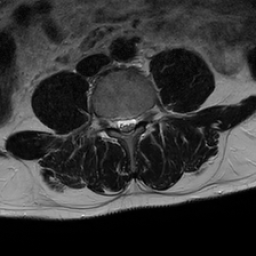CCS_stenosis: (122, 107, 130, 141)
LFS_normal: (137, 105, 146, 130)
LLS_normal: (130, 107, 137, 136)
RFS_normal: (106, 108, 114, 134)
RLS_normal: (114, 109, 122, 136)
